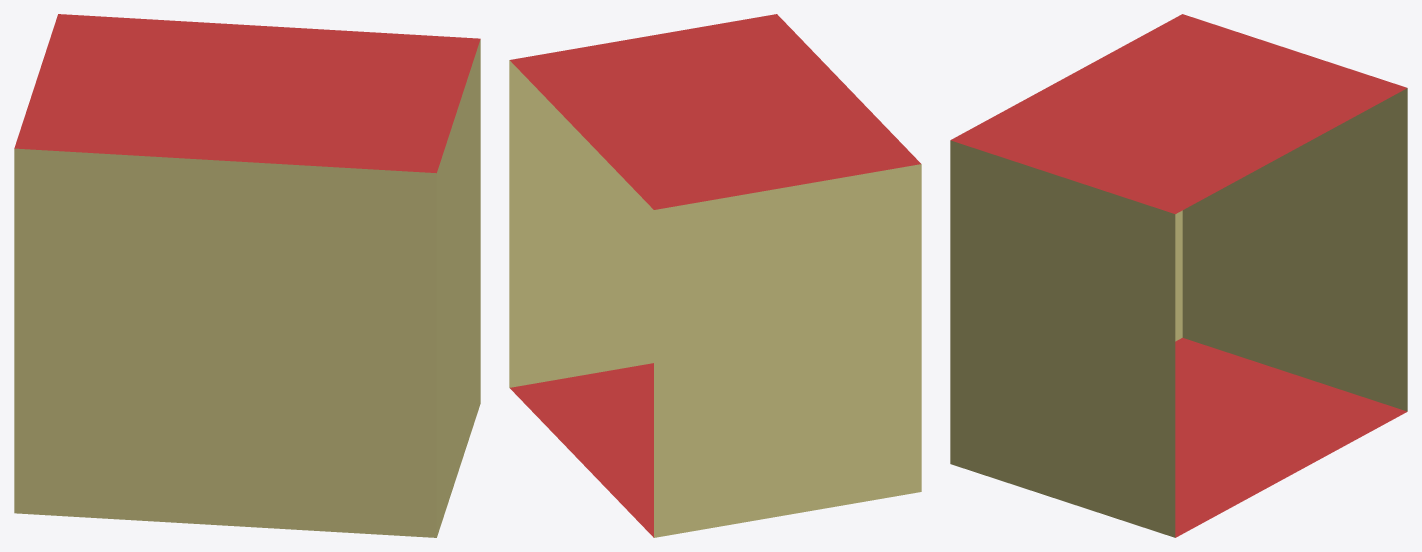
3 views of the same model, side by side, from view 1: azimuth 30°, elevation 25°; view 2: azimuth 150°, elevation 25°; view 3: azimuth 270°, elevation 25° (orthographic). The views are drawn at different scales.
Size of the model in its own units: 7.6 by 7.34 by 5.73.
